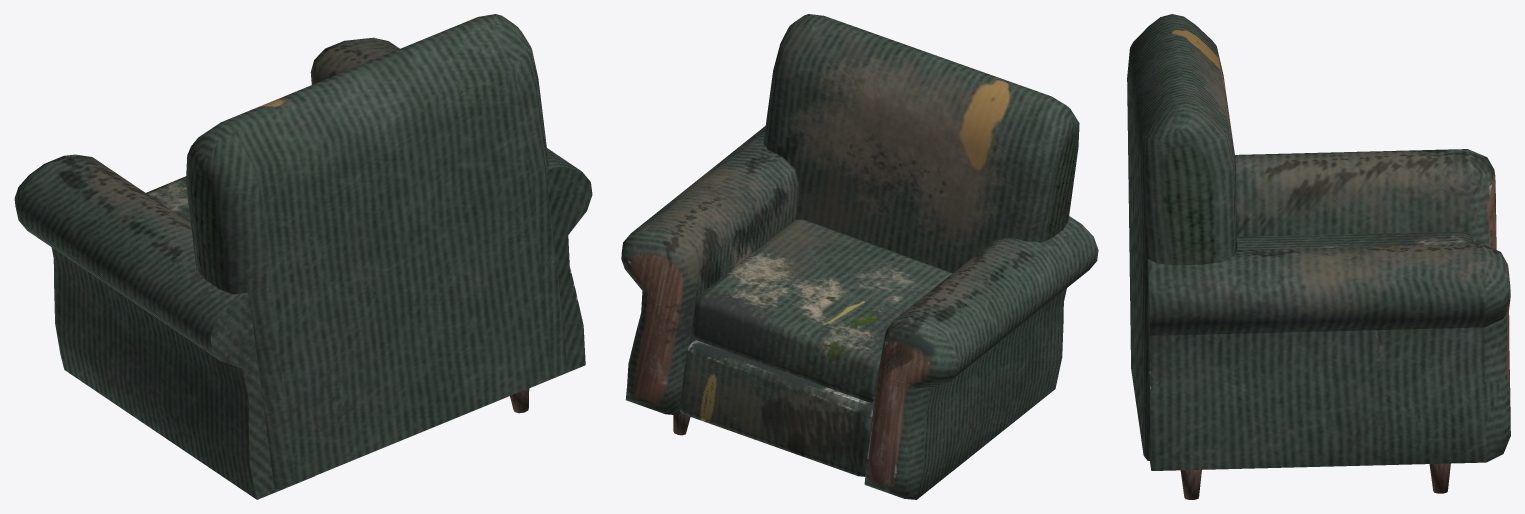
The model's file is chair.glb.
3 views of the same model, side by side, from view 1: azimuth 30°, elevation 25°; view 2: azimuth 150°, elevation 25°; view 3: azimuth 270°, elevation 25° (orthographic). The views are drawn at different scales.
Visible parts, largest first — view 1: tocut.002; view 2: tocut.002; view 3: tocut.002.
Boxes of the visible parts, x1,y1,x2,y2 form: tocut.002: [14, 14, 592, 499]; tocut.002: [621, 14, 1098, 499]; tocut.002: [1127, 14, 1510, 499].
Bounding box in the file's own units: 92.5 × 88.01 × 80.92.
1 material, 1 textured.
